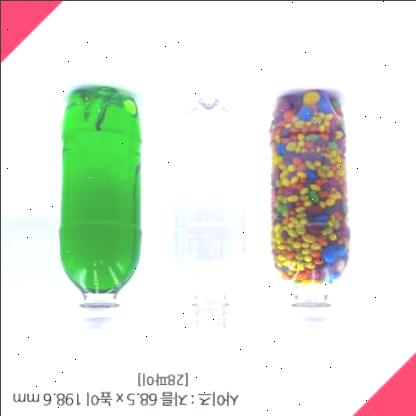Plastic Bottle: (50, 72, 146, 346), (268, 89, 349, 332), (171, 92, 246, 328)
